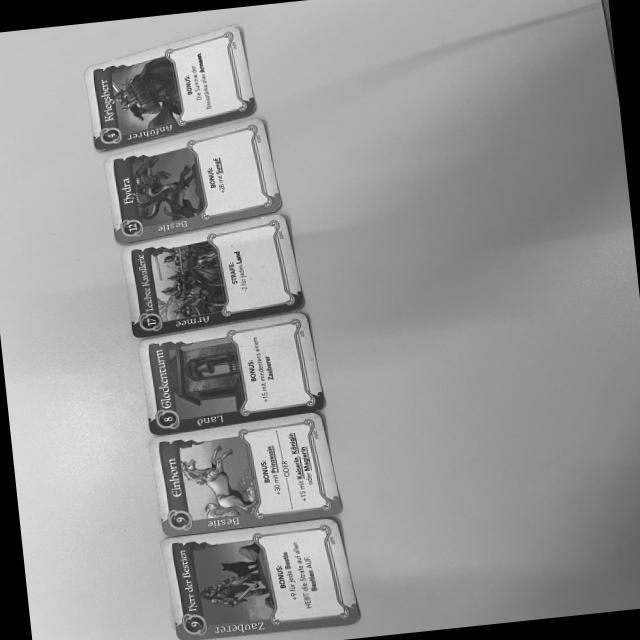Beast Master: (158, 517, 360, 640)
Clock Tower: (135, 309, 327, 436)
Dwarvish Infantry: (119, 210, 307, 339)
Hydra: (102, 115, 284, 246)
Unicorn: (146, 412, 343, 535)
Warlord: (78, 22, 260, 150)
